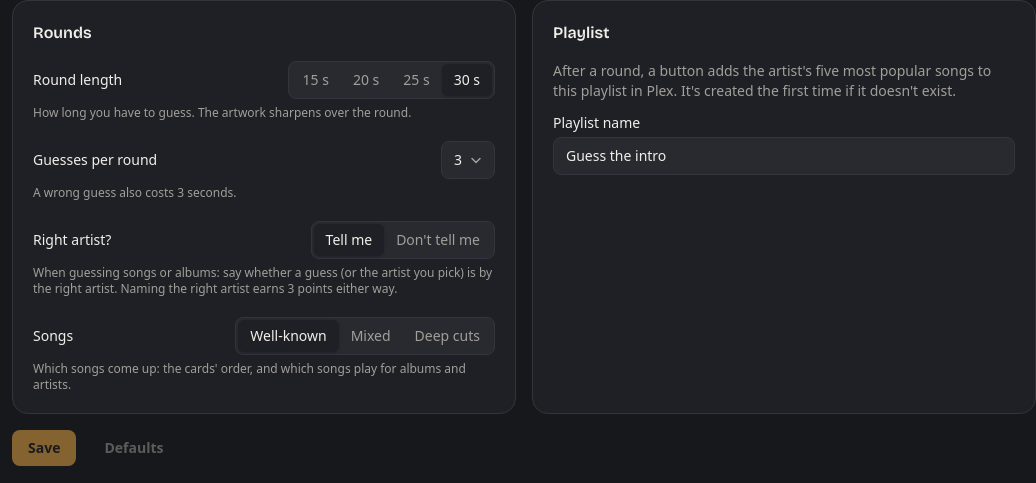
GameSettingsPage › saves the game settings to the account
The image size is (1036, 483).
Click the button "20 s". click: (366, 80)
box: [341,64,391,96]
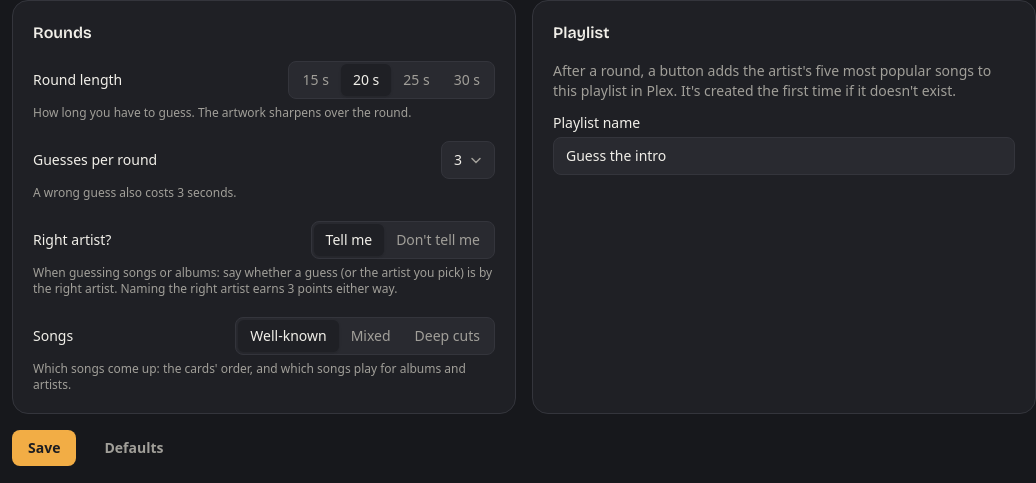
Click the button "Deep cuts". click: (447, 336)
box: [403,320,492,352]
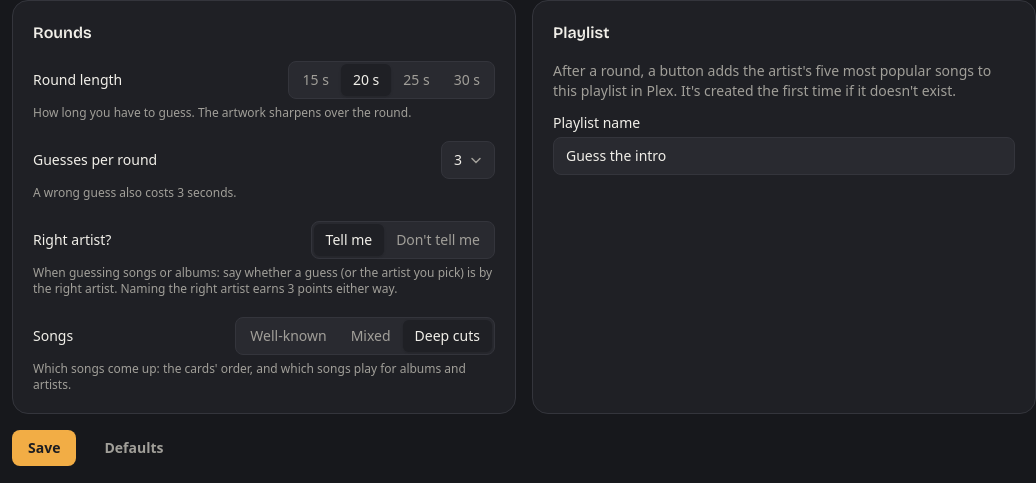
Click the button "Don't tell me". click: (438, 240)
box: [384,224,492,256]
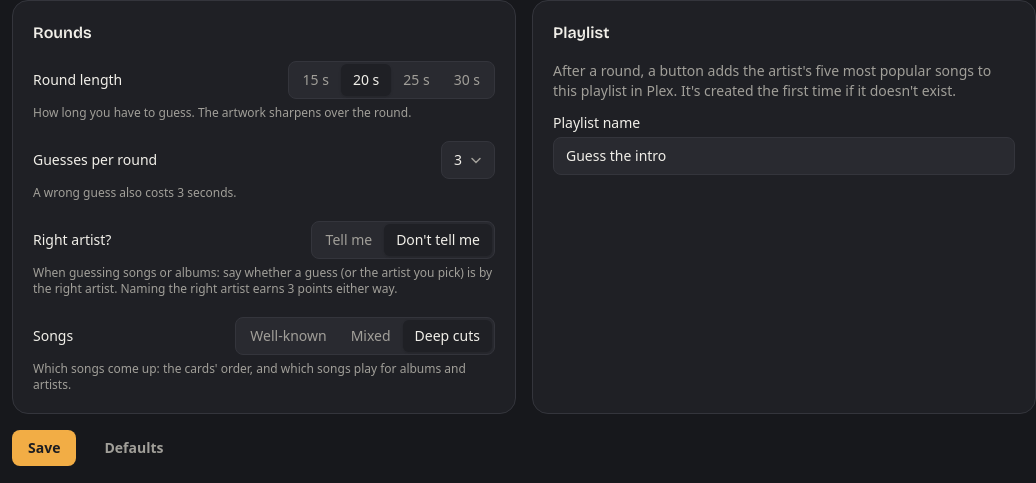
Replace the text in the field labelled "Playlist name" with "Road trip". click: (784, 156)
box: [553,137,1015,175]
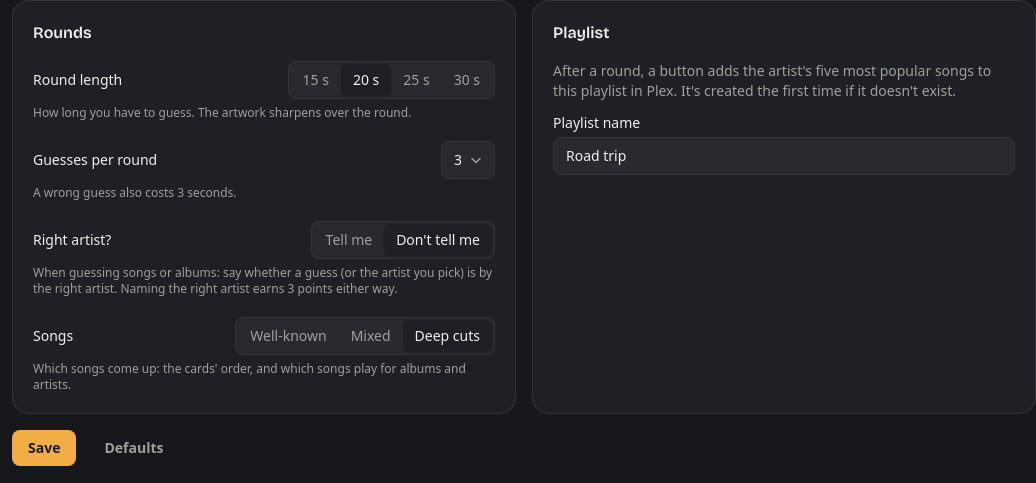
Click the button "Save". click: (44, 448)
box: [12,430,76,466]
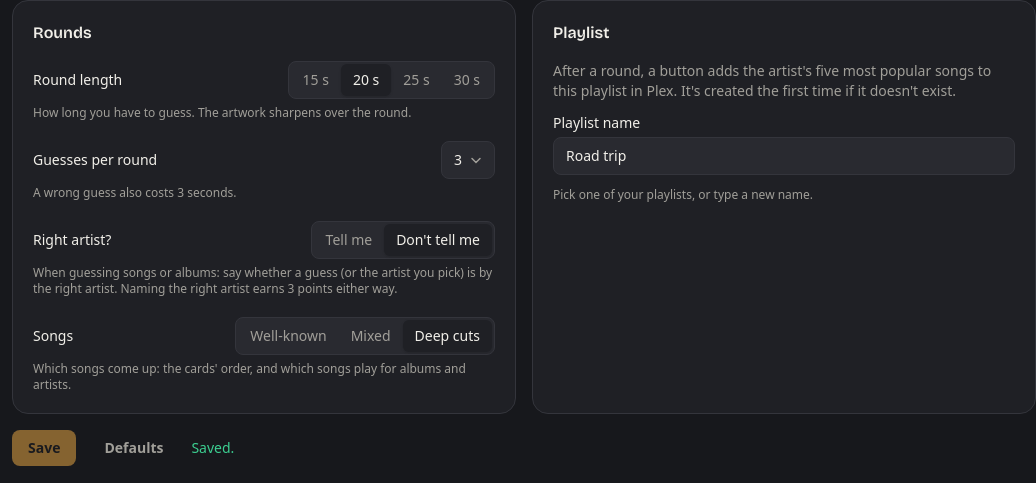
Expected: the text "Saved." is shown, [191,438,234,458]
